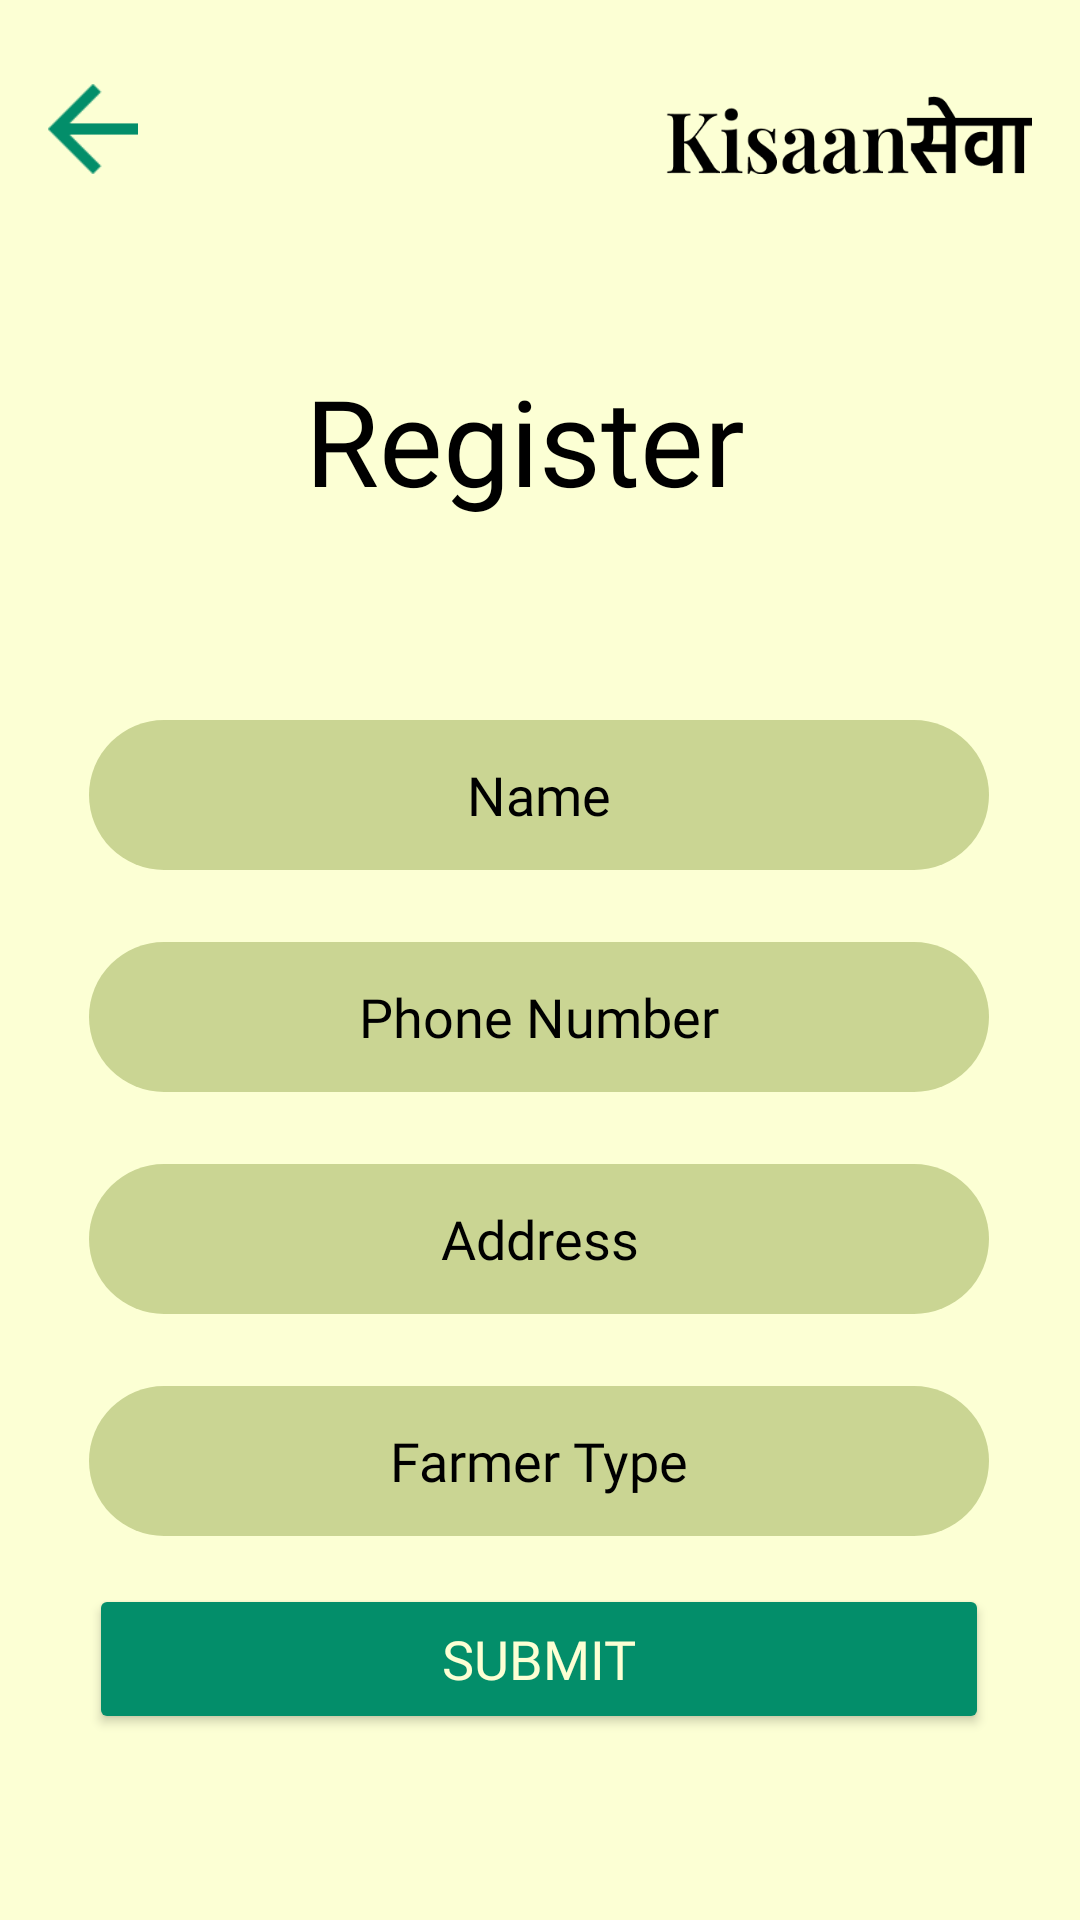

Screen size 1080×1920. Icon name, then its box in pixels as (left=x1, top=y1, right=x2, bottom=y2):
back: (left=48, top=84, right=138, bottom=174)
